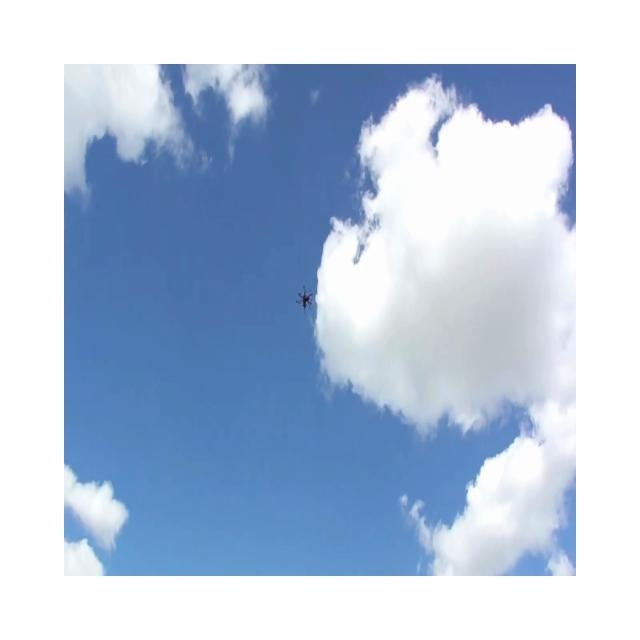drone: (296, 284, 312, 312)
